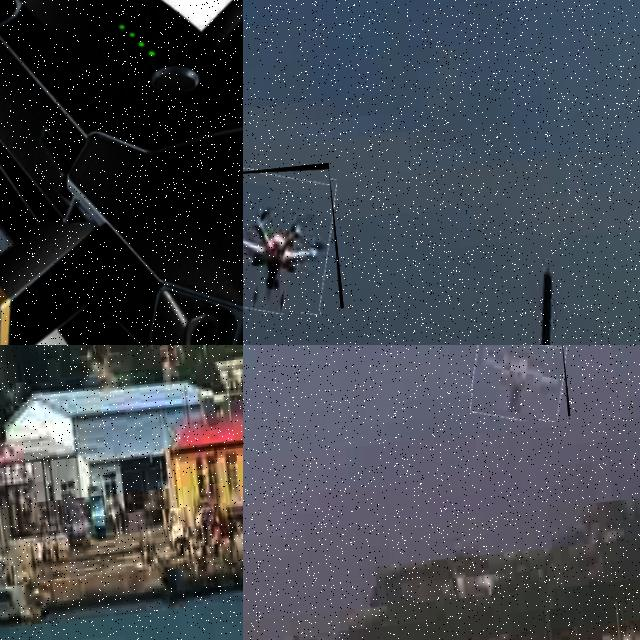0: (243, 162, 343, 319), (466, 345, 570, 425)
drone: (0, 0, 243, 345)
